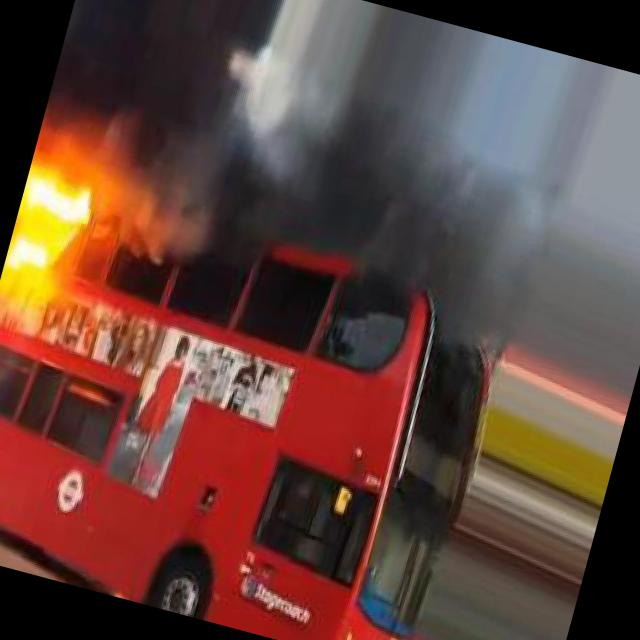Fire: (0, 166, 104, 303)
Smoke: (25, 0, 567, 312)
